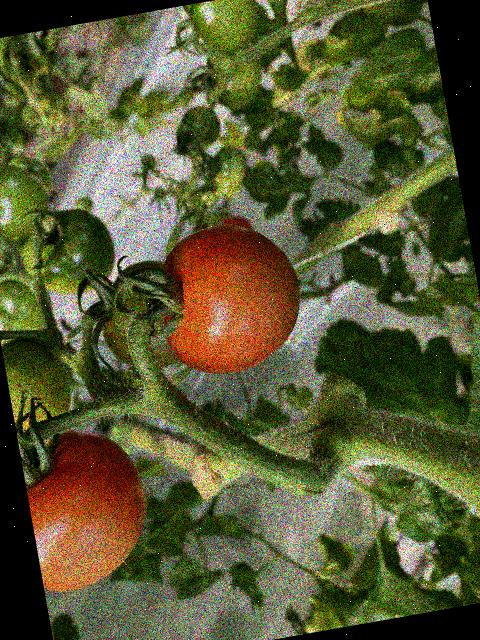l_fully_ripened: (146, 212, 314, 384), (17, 419, 159, 596)
l_green: (92, 257, 182, 375), (15, 201, 120, 302), (0, 331, 80, 451), (103, 265, 176, 361), (181, 0, 265, 61), (202, 40, 268, 115), (0, 158, 55, 243)
